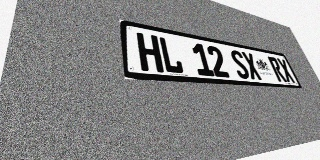1: (190, 42, 215, 76)
2: (206, 45, 230, 78)
H: (136, 32, 164, 73)
L: (158, 36, 185, 74)
R: (267, 56, 287, 82)
S: (229, 49, 251, 79)
X: (241, 51, 263, 80), (276, 58, 296, 83)
